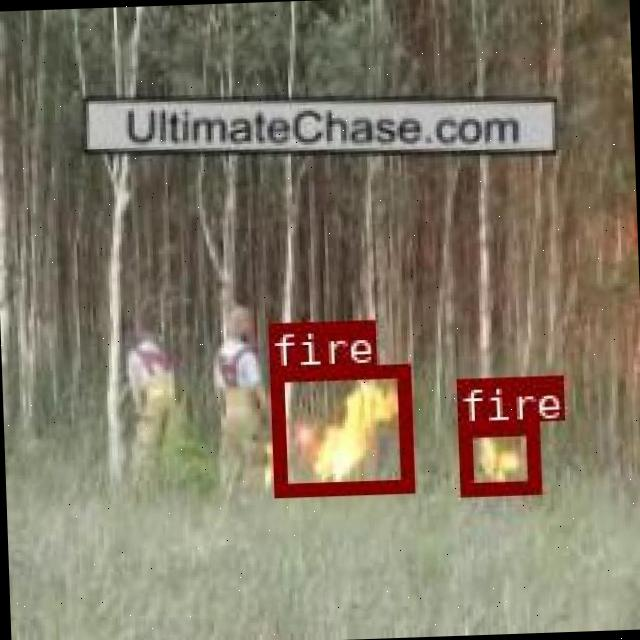fire: (270, 362, 411, 494), (456, 418, 537, 494)
